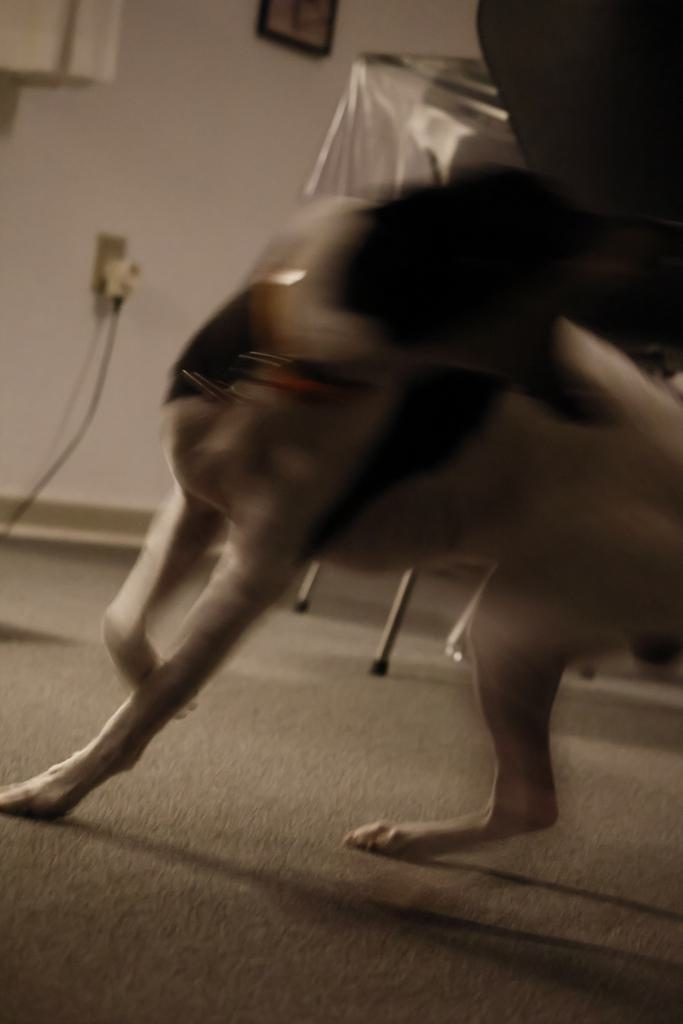Dog: (0, 144, 683, 868)
